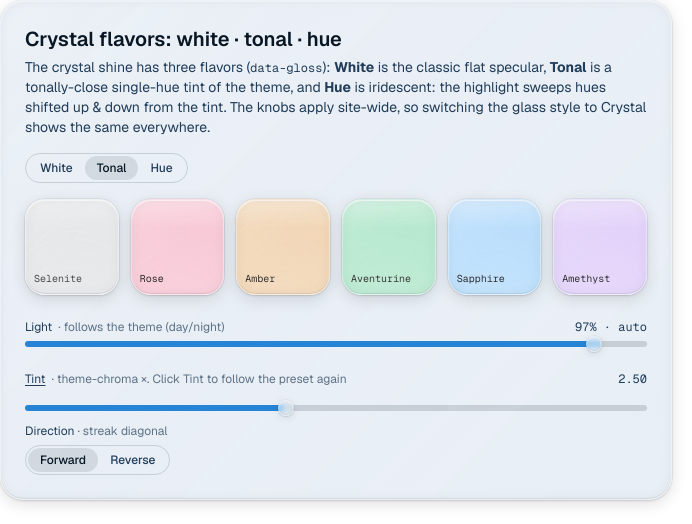
CrystalGlossDemo: tint auto-toggle › hands the property back to the preset when the Tint label is clicked
The width and height of the screenshot is (692, 524).
Click the button "Tint": (35, 379) [25,359,46,399]
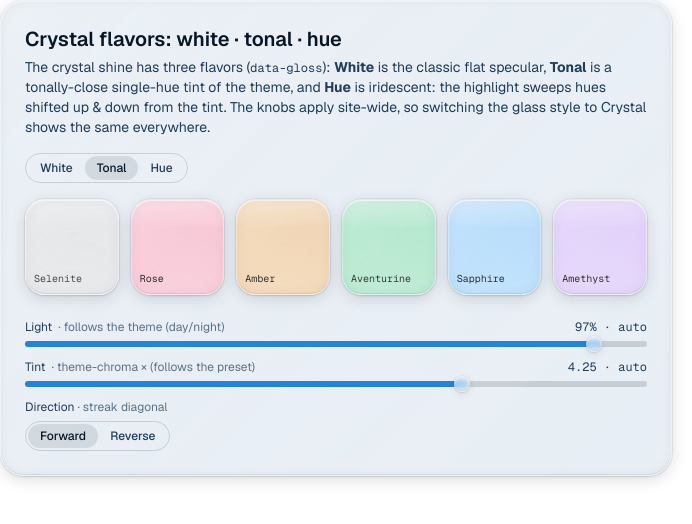
Now the text "4.25 · auto" is shown, box [568,359,647,375]
